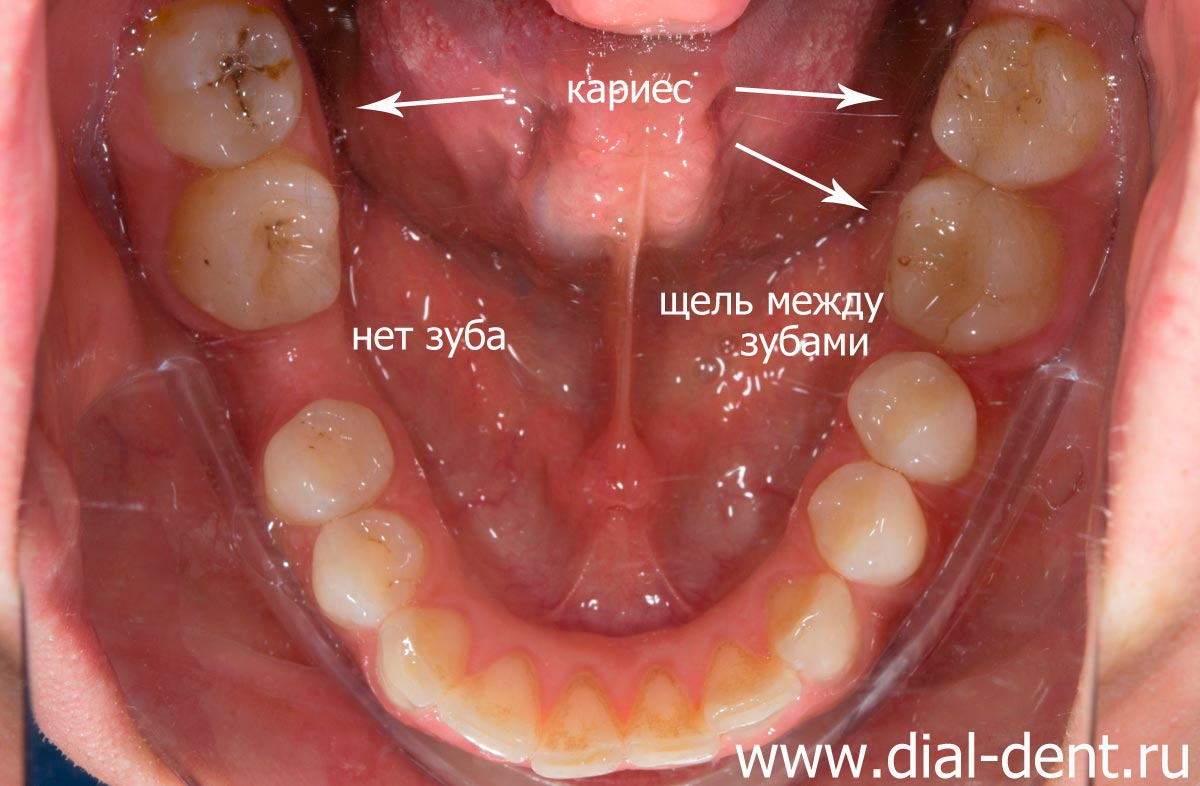LL1BC_healthy: (801, 456, 939, 597)
LL1M_decay: (888, 177, 1070, 358)
LL2BC_healthy: (847, 357, 981, 490)
LL2M_decay: (933, 14, 1108, 192)
LL3M_decay: (125, 1, 314, 172)
LLCI_healthy: (622, 663, 716, 769)
LLC_healthy: (763, 569, 866, 692)
LLLI_healthy: (693, 638, 800, 733)
LR1BC_decay: (305, 509, 428, 623)
LR2BC_decay: (252, 393, 395, 531)
LR2M_decay: (171, 148, 345, 334)
LRCI_healthy: (531, 670, 625, 780)
LRC_healthy: (369, 603, 482, 715)
LRLI_healthy: (443, 640, 543, 770)
